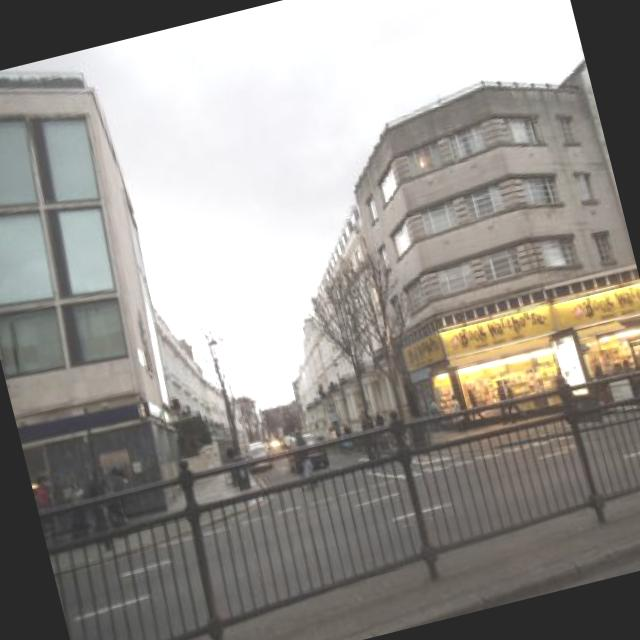Person: (350, 406, 382, 466), (380, 404, 410, 456)
